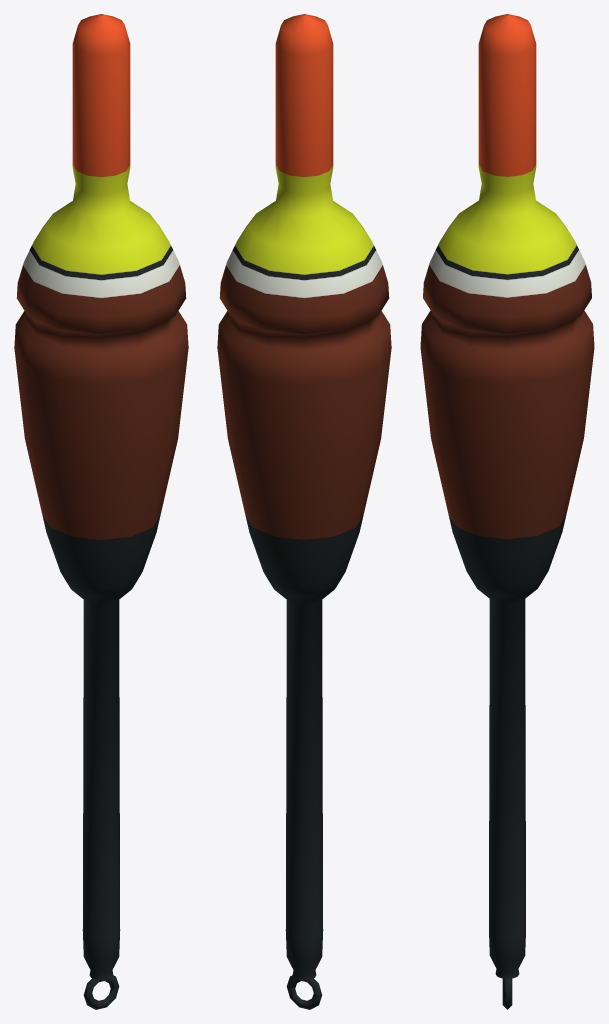
3 renders of one model, left to right at view 1: azimuth 30°, elevation 25°; view 2: azimuth 150°, elevation 25°; view 3: azimuth 270°, elevation 25°, orthographic.
Parts seen in each view (by area): view 1: F36_Float; view 2: F36_Float; view 3: F36_Float.
Boxes of the visible parts, x1,y1,x2,y2 form: F36_Float: [14, 14, 188, 1009]; F36_Float: [217, 14, 391, 1009]; F36_Float: [420, 14, 594, 1009].
Bounding box in the file's own units: 0.0167 × 0.105 × 0.0167.
1 material, 1 textured.
